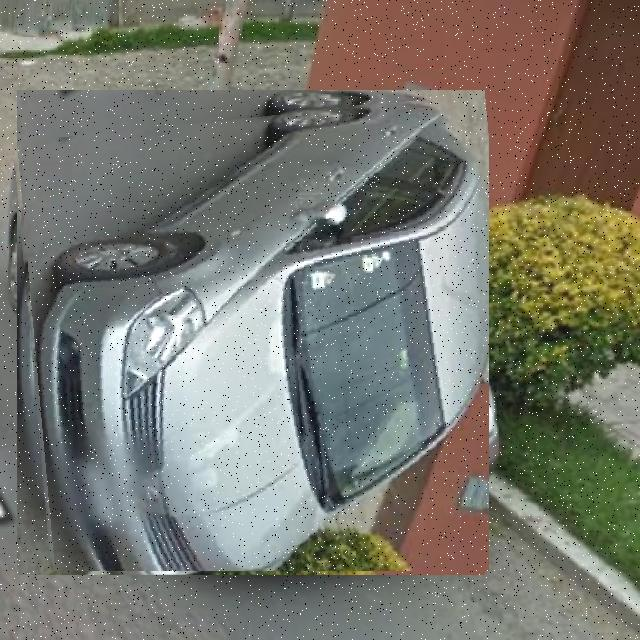car: (14, 94, 490, 572)
